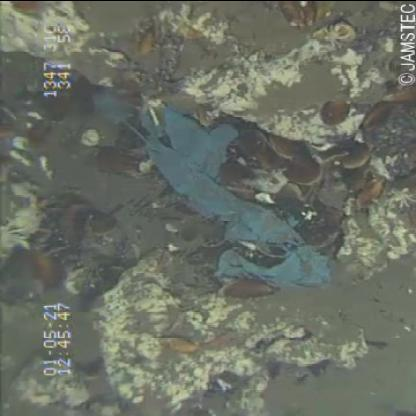Rác: (70, 64, 344, 302)
